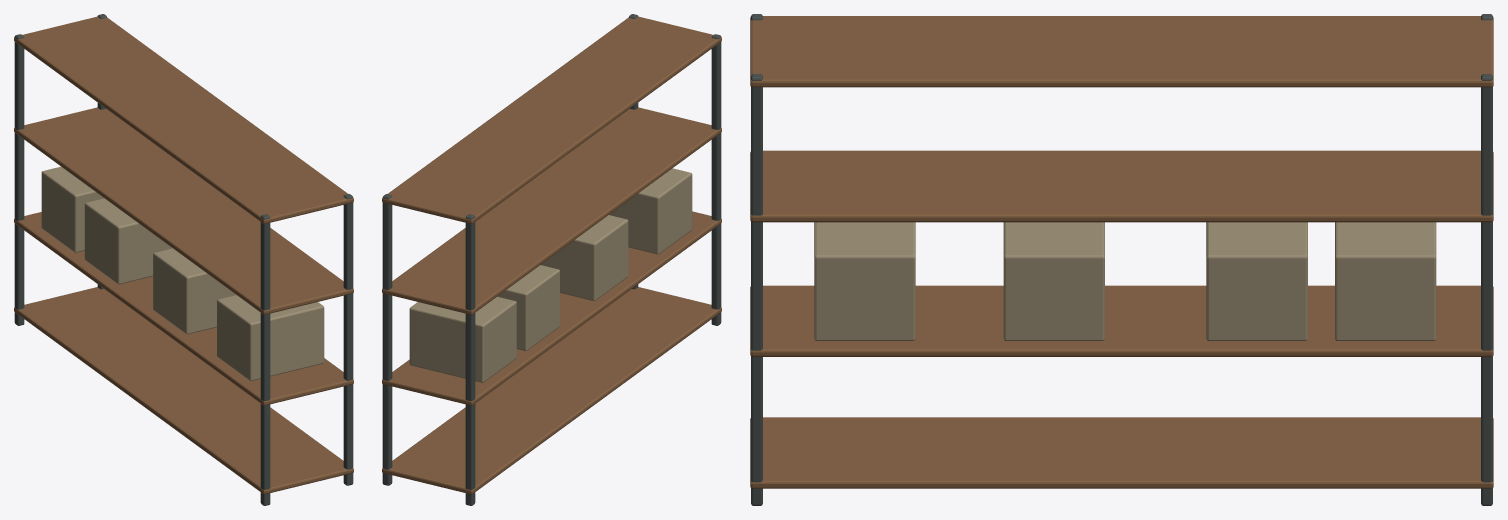
File: service-shelf.fbx
The picture shows the model from 3 angles, left to right: view 1: azimuth 30°, elevation 25°; view 2: azimuth 150°, elevation 25°; view 3: azimuth 270°, elevation 25°; orthographic projection. The views are drawn at different scales.
Parts seen in each view (by area): view 1: Shelf tray.003, Shelf tray.002, Shelf tray, Shelf tray.001, Stored carton, Stored carton.002, Stored carton.001, Stored carton.003, Angle upright, Angle upright.002, Angle upright.001; view 2: Shelf tray.003, Shelf tray.002, Shelf tray, Shelf tray.001, Stored carton.003, Stored carton.001, Stored carton, Stored carton.002, Angle upright.001, Angle upright.003, Angle upright; view 3: Shelf tray.003, Shelf tray.002, Shelf tray, Shelf tray.001, Stored carton, Stored carton.001, Stored carton.002, Stored carton.003, Angle upright.002, Angle upright.003.
Boxes of the visible parts, x1,y1,x2,y2 form: Shelf tray.003: [14, 16, 353, 223]; Shelf tray.002: [14, 107, 353, 314]; Shelf tray: [14, 287, 353, 494]; Shelf tray.001: [14, 212, 353, 405]; Stored carton: [217, 295, 324, 380]; Stored carton.002: [84, 198, 172, 284]; Stored carton.001: [153, 248, 235, 334]; Stored carton.003: [41, 166, 103, 252]; Angle upright: [260, 214, 270, 505]; Angle upright.002: [343, 194, 353, 485]; Angle upright.001: [14, 34, 24, 325]; Shelf tray.003: [382, 16, 721, 223]; Shelf tray.002: [382, 107, 721, 314]; Shelf tray: [382, 287, 721, 494]; Shelf tray.001: [382, 211, 721, 405]; Stored carton.003: [409, 296, 516, 382]; Stored carton.001: [541, 215, 628, 300]; Stored carton: [609, 168, 692, 254]; Stored carton.002: [497, 265, 559, 350]; Angle upright.001: [465, 214, 475, 505]; Angle upright.003: [382, 194, 392, 485]; Angle upright: [711, 34, 721, 325]; Shelf tray.003: [750, 16, 1493, 87]; Shelf tray.002: [750, 150, 1493, 222]; Shelf tray: [750, 417, 1493, 488]; Shelf tray.001: [750, 285, 1493, 356]; Stored carton: [814, 222, 915, 340]; Stored carton.001: [1003, 222, 1104, 340]; Stored carton.002: [1206, 222, 1307, 340]; Stored carton.003: [1335, 222, 1436, 340]; Angle upright.002: [751, 74, 762, 505]; Angle upright.003: [1481, 74, 1492, 505].
Bounding box in the file's own units: 0.46 × 1.4 × 2.2.
